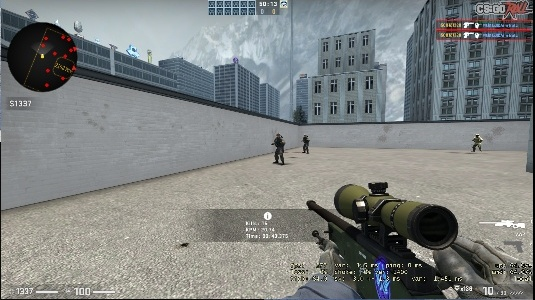body: (273, 133, 287, 164), (471, 134, 483, 153), (301, 134, 311, 153)
head: (276, 133, 281, 139), (475, 133, 481, 138), (304, 134, 308, 139)
